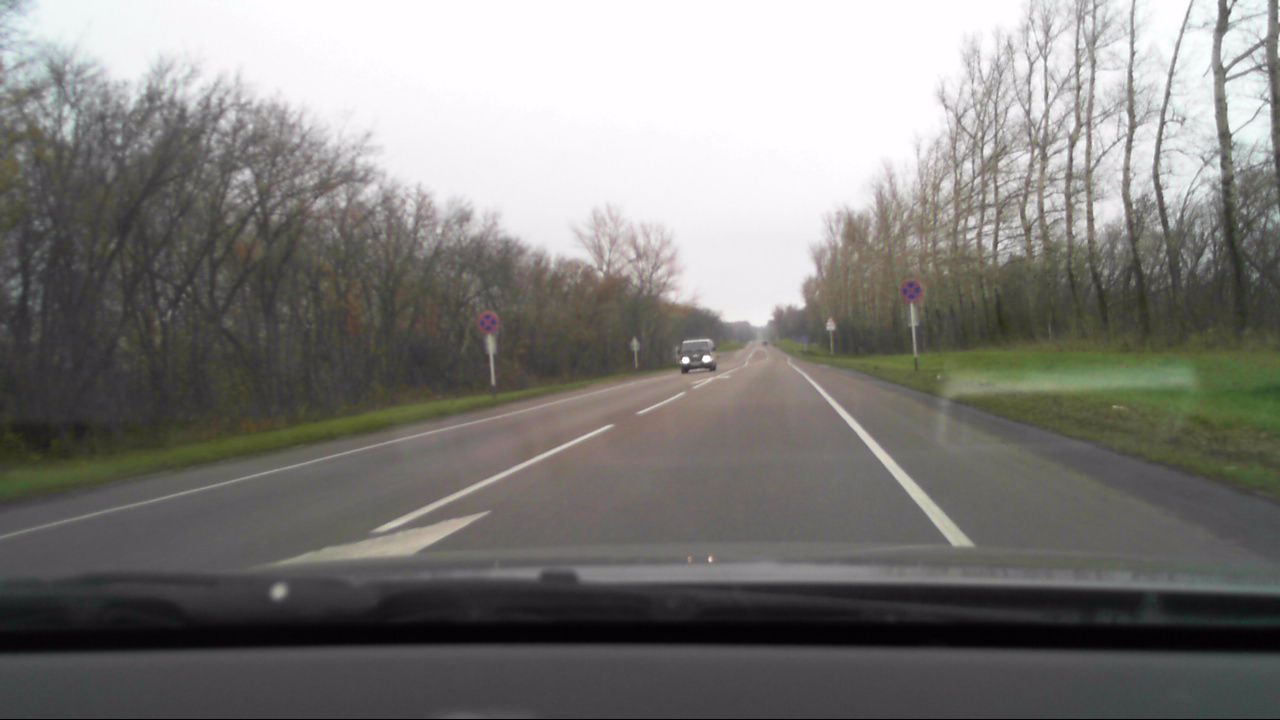No Parking: (477, 312, 500, 332)
